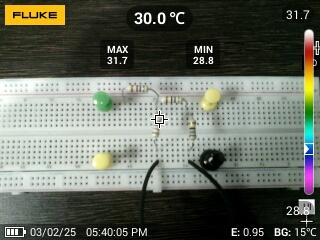resistor: (124, 83, 151, 96), (150, 115, 163, 141), (186, 117, 199, 142), (159, 94, 186, 105)
